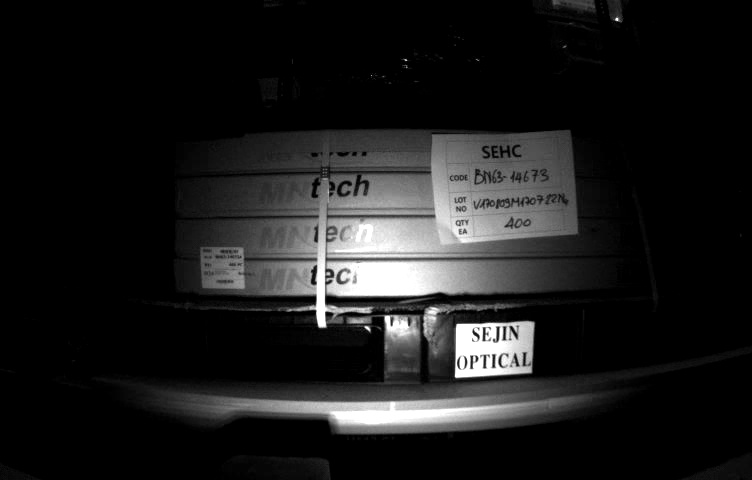True Barcode: (197, 244, 248, 290)
